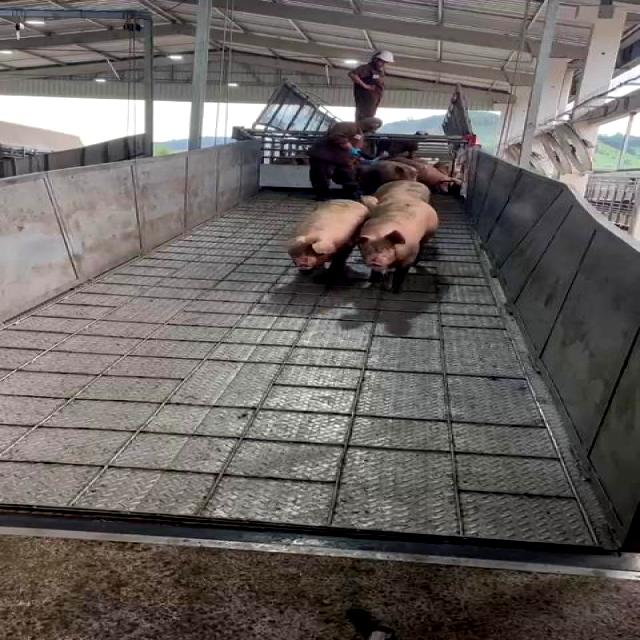pig: (358, 202, 437, 291), (286, 200, 369, 283), (371, 180, 431, 206)
